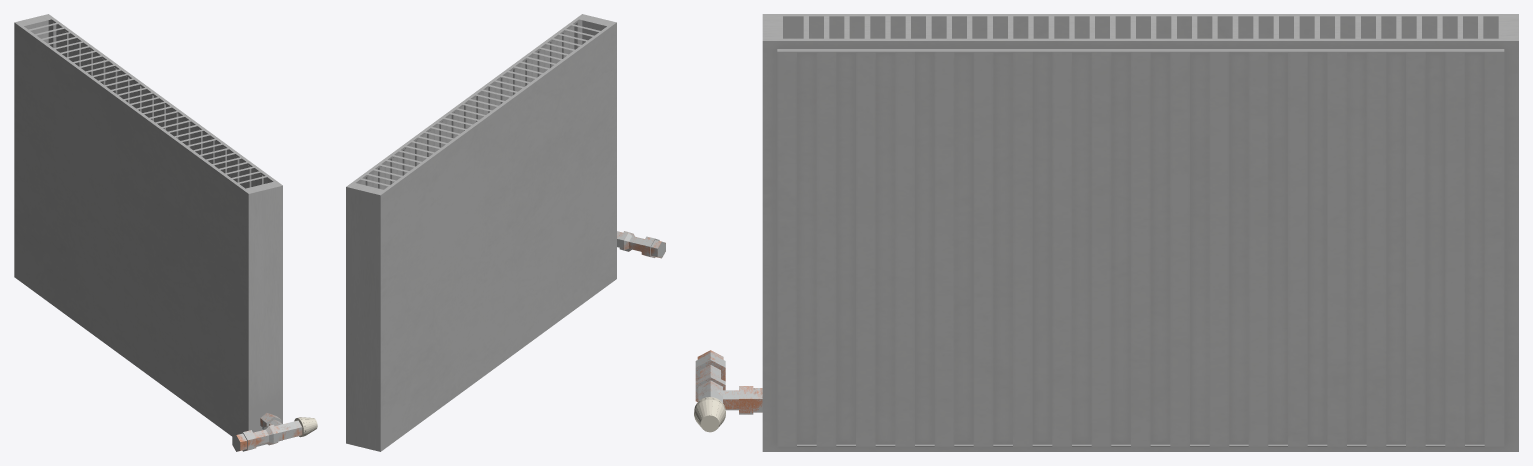
The model's file is Radiator.fbx.
3 views of the same model, side by side, from view 1: azimuth 30°, elevation 25°; view 2: azimuth 150°, elevation 25°; view 3: azimuth 270°, elevation 25° (orthographic). The views are drawn at different scales.
Parts seen in each view (by area): view 1: Cube, Cylinder; view 2: Cube, Cylinder; view 3: Cube, Cylinder, Cylinder.002.
Boxes of the visible parts, <box> form: Cube: <box>14,14,282,446</box>; Cylinder: <box>232,413,302,451</box>; Cube: <box>346,14,616,451</box>; Cylinder: <box>617,231,665,258</box>; Cube: <box>762,14,1518,451</box>; Cylinder: <box>695,350,762,414</box>; Cylinder.002: <box>694,397,725,432</box>.
Size of the model in its own units: 64.29 by 200 by 364.
